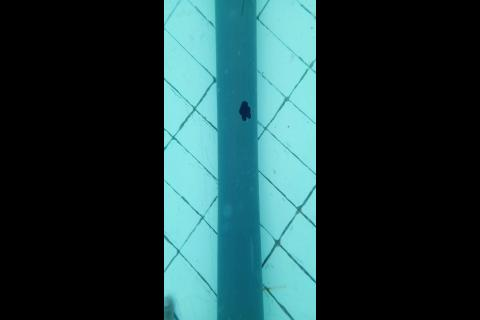kebocoran: (238, 100, 251, 121)
keretakan: (241, 0, 245, 17)
